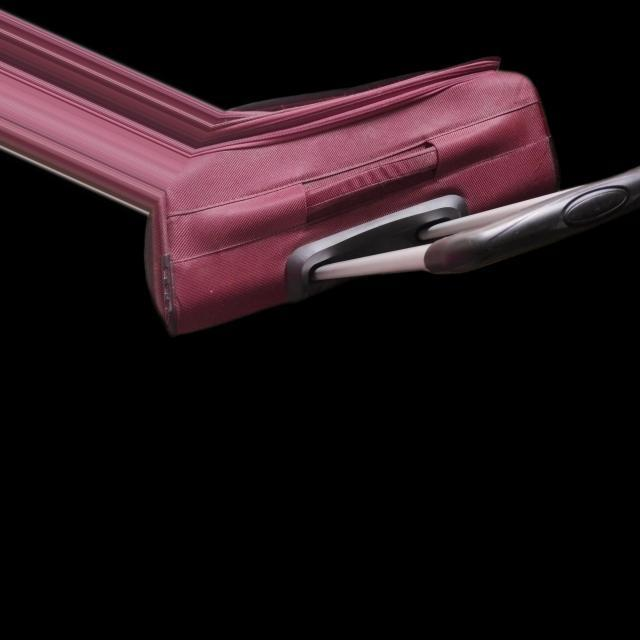Suitcase: (126, 51, 640, 349)
